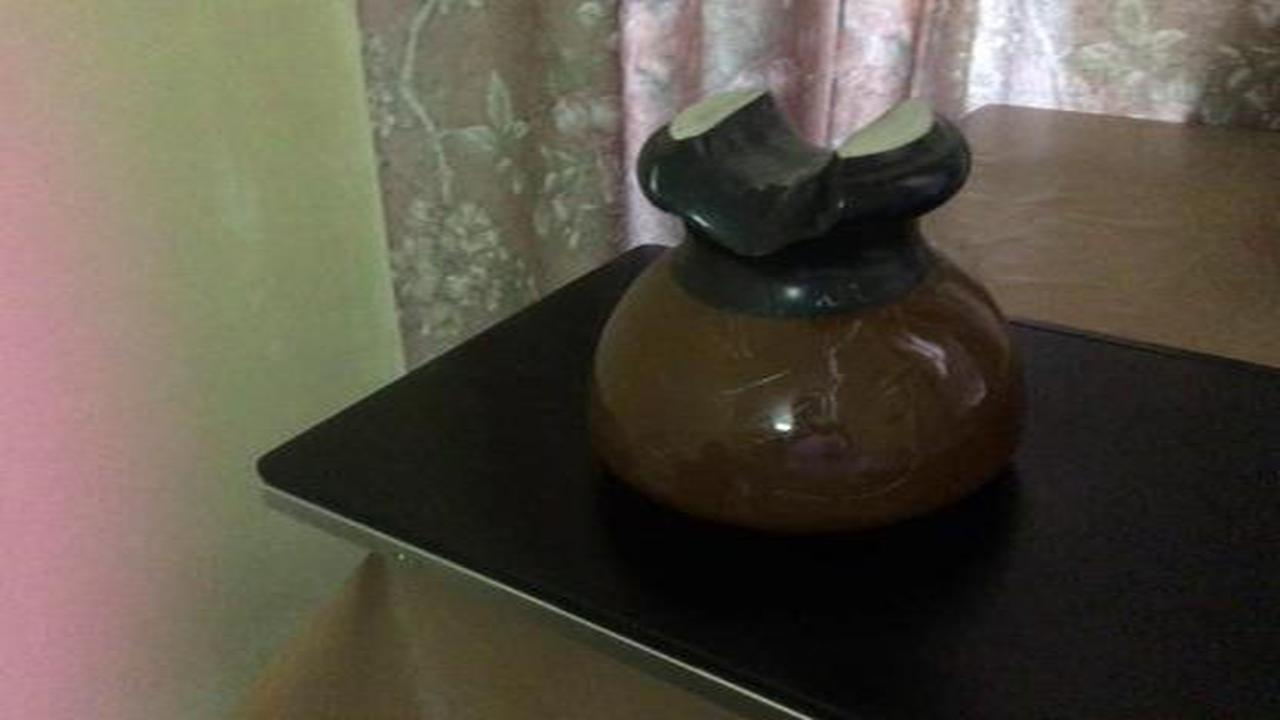insulator_pin: (573, 61, 1059, 547)
